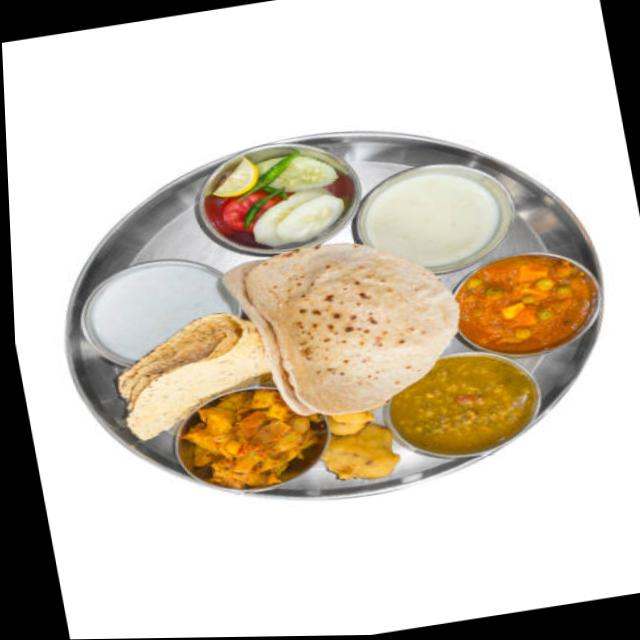CHAPATHI: (221, 249, 461, 415)
CURD: (98, 266, 236, 360), (368, 175, 499, 263)
PAPADAM: (115, 314, 269, 440)
VEGGIES: (456, 255, 592, 352), (393, 357, 524, 441), (200, 396, 310, 480)
